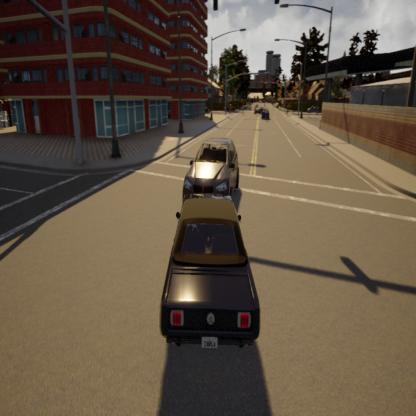Cars: (156, 185, 274, 365), (182, 126, 246, 206), (261, 107, 273, 122), (255, 102, 268, 115)
Pedestrian: (241, 102, 245, 122)
